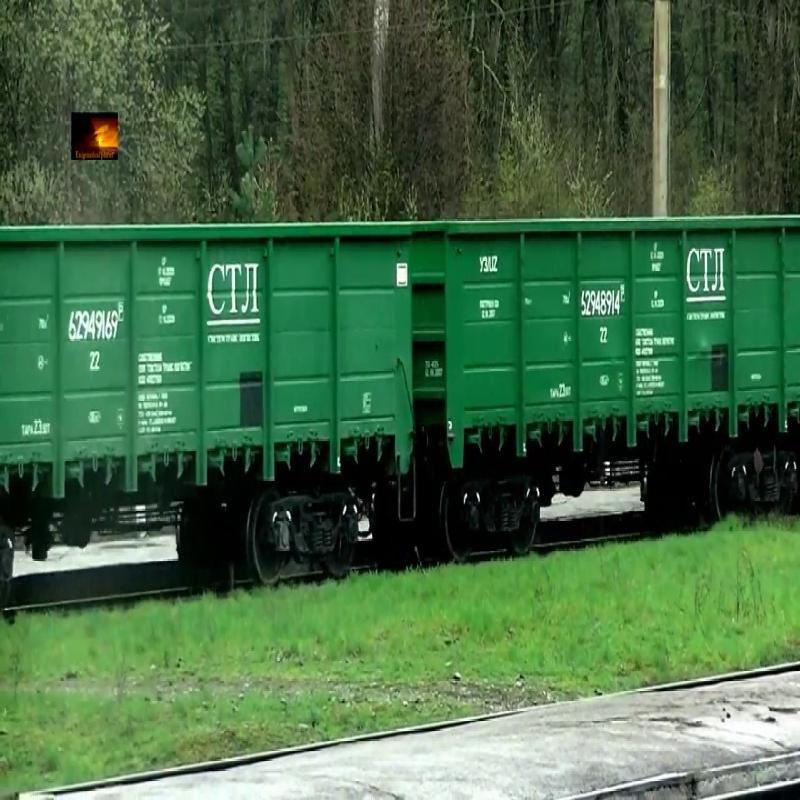train: (1, 221, 415, 517), (415, 215, 800, 490)
